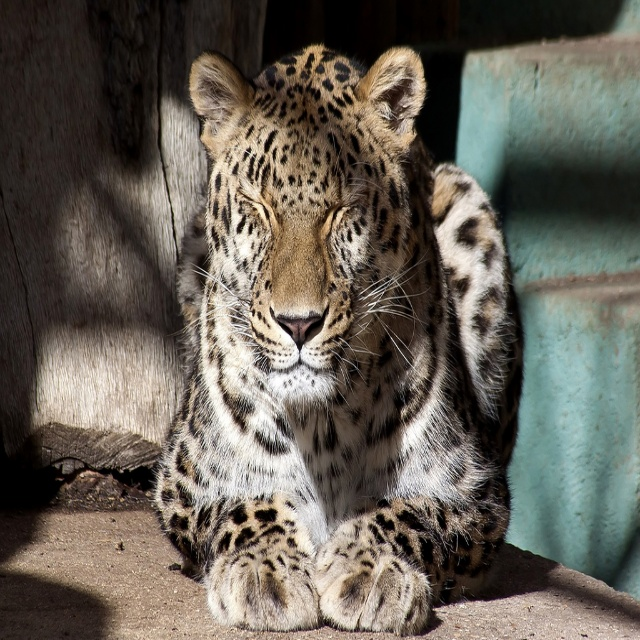Leopard: (149, 41, 528, 640)
